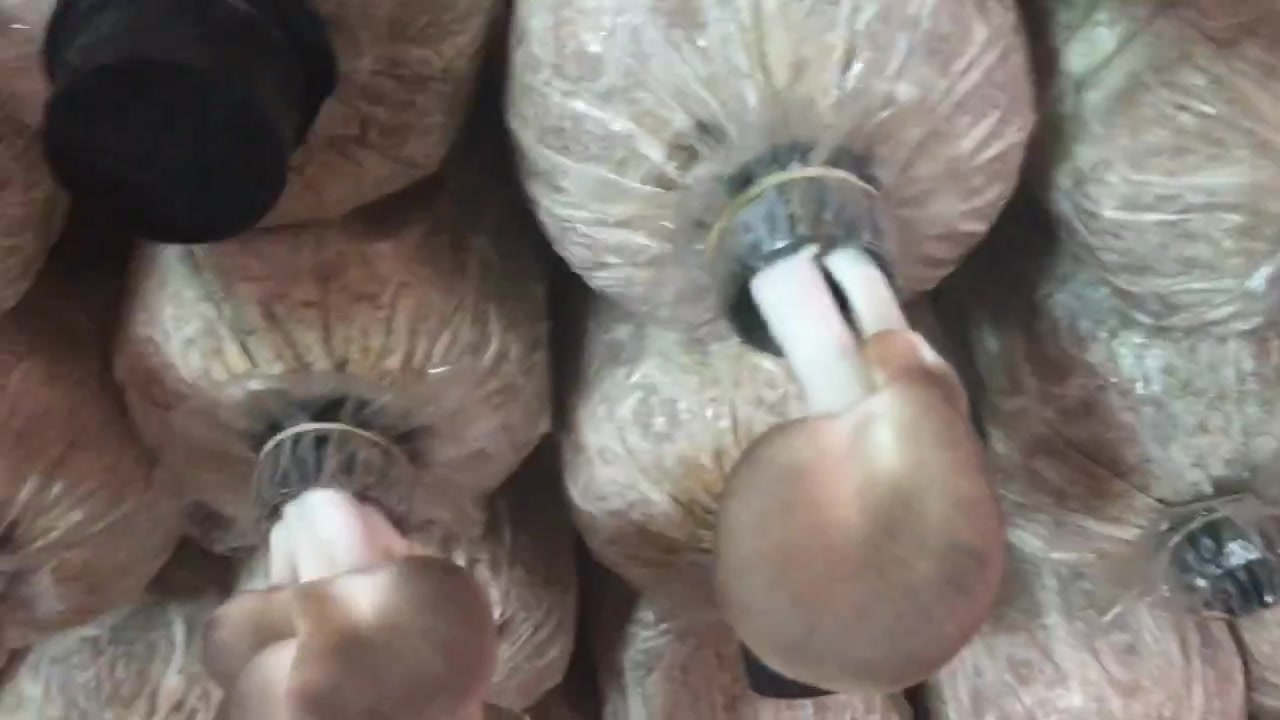nam: (717, 170, 1006, 686), (209, 425, 493, 720)
